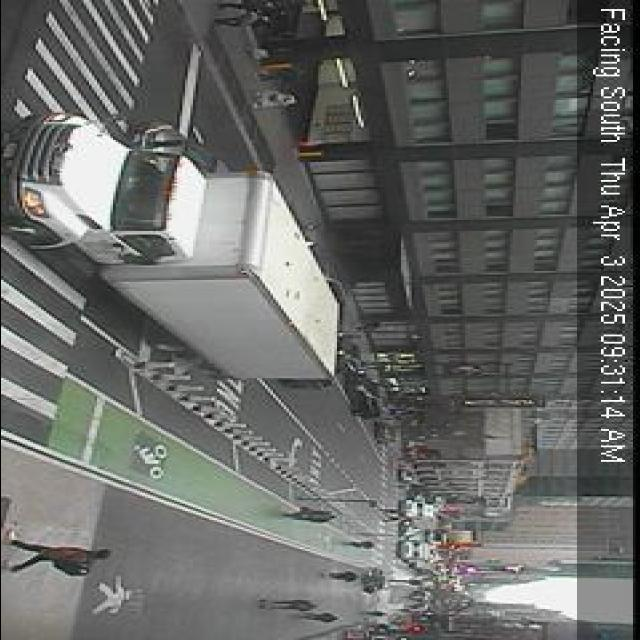open parking: (350, 390, 431, 452)
